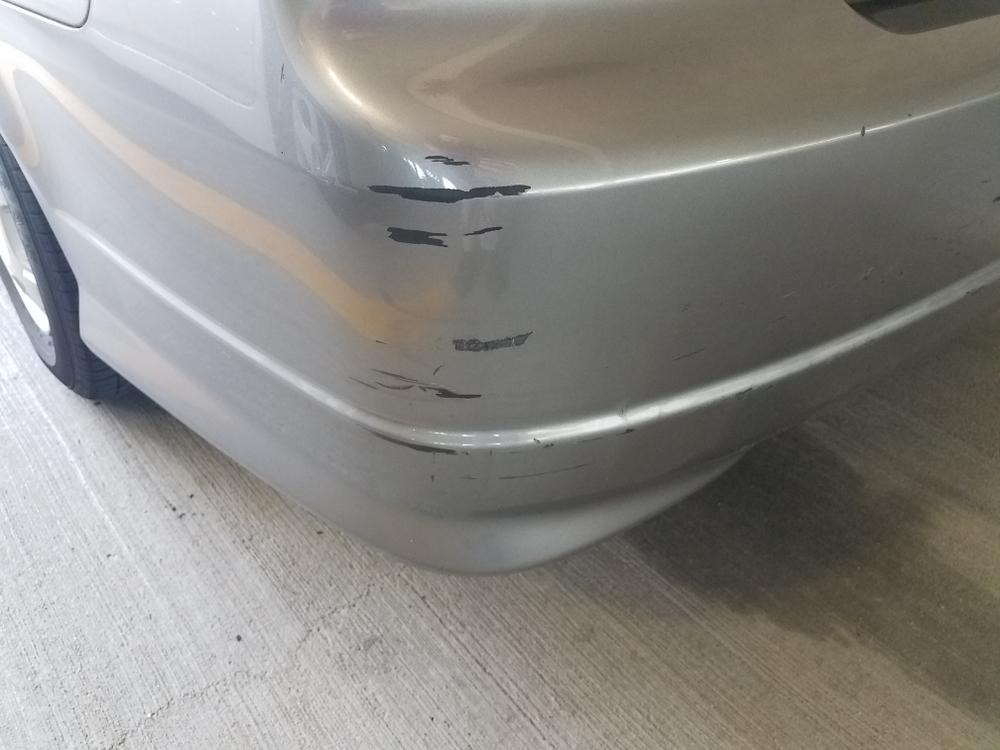scratch: (342, 144, 557, 473)
